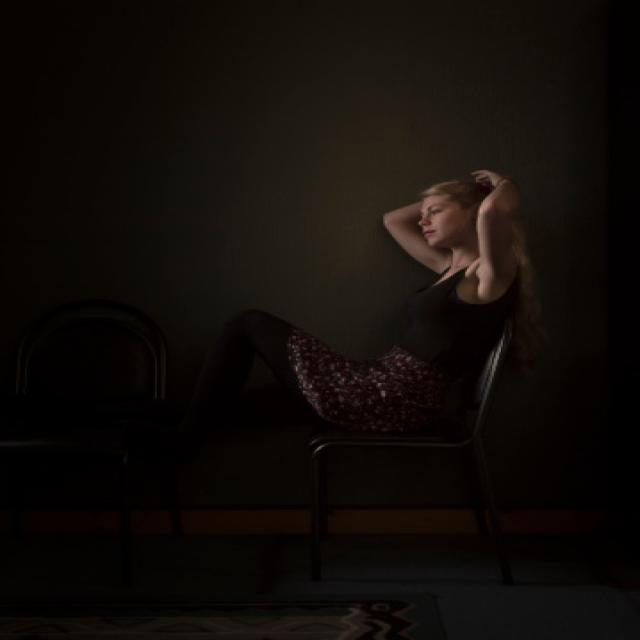Table: (98, 161, 549, 487)
chair: (269, 332, 592, 586), (0, 274, 164, 596)
